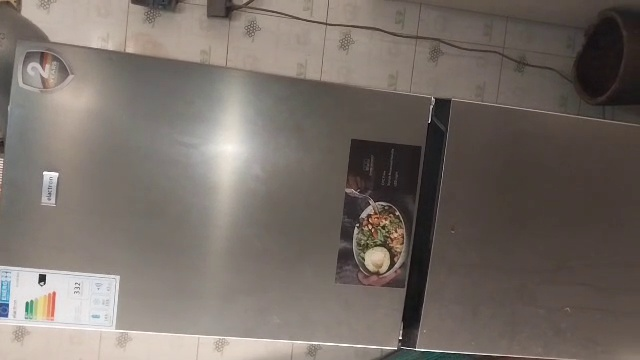refrigerator: (8, 32, 640, 360)
